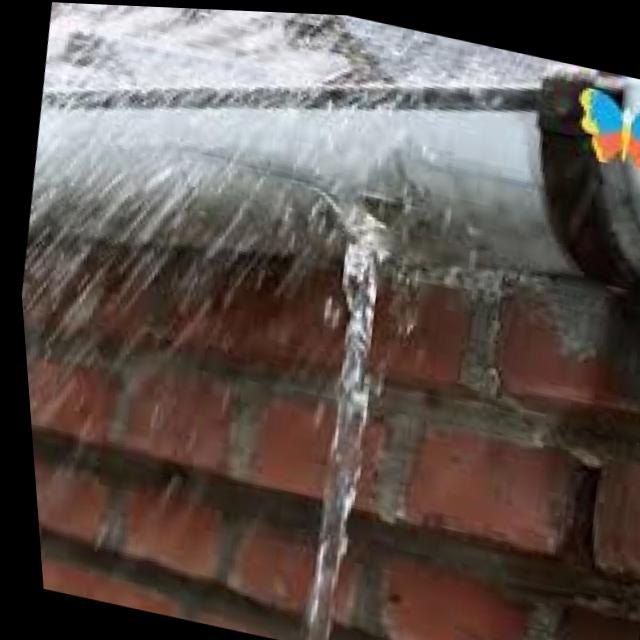leak: (25, 3, 468, 640)
